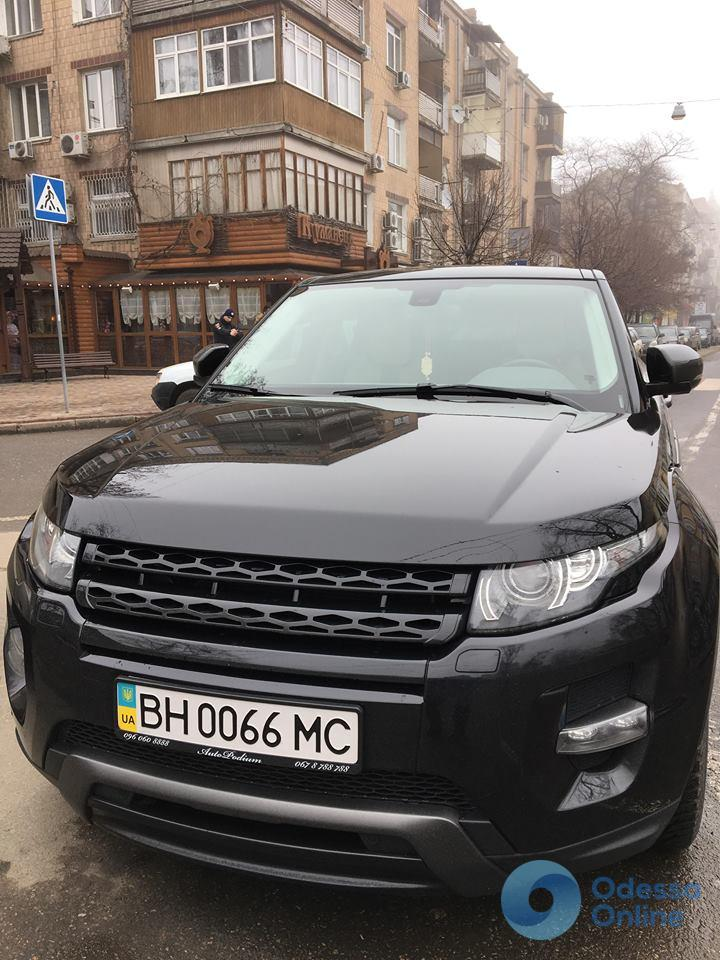car: (2, 263, 716, 927)
plate: (113, 671, 360, 775)
